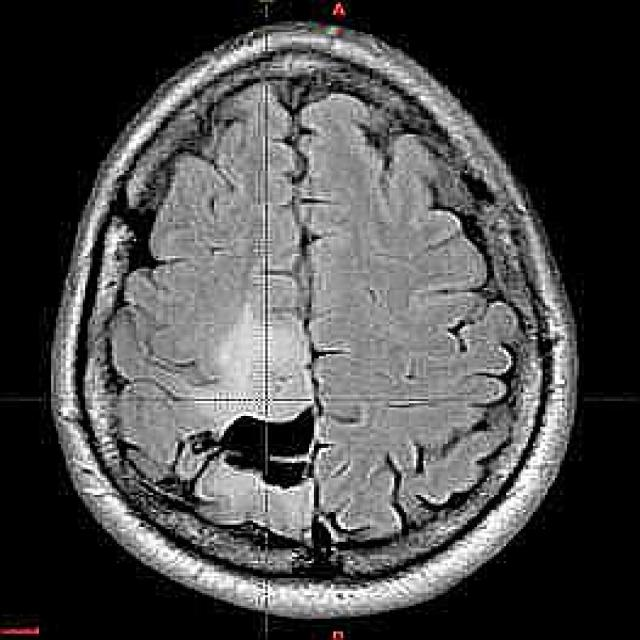Tumor-Cell: (210, 399, 332, 490)
